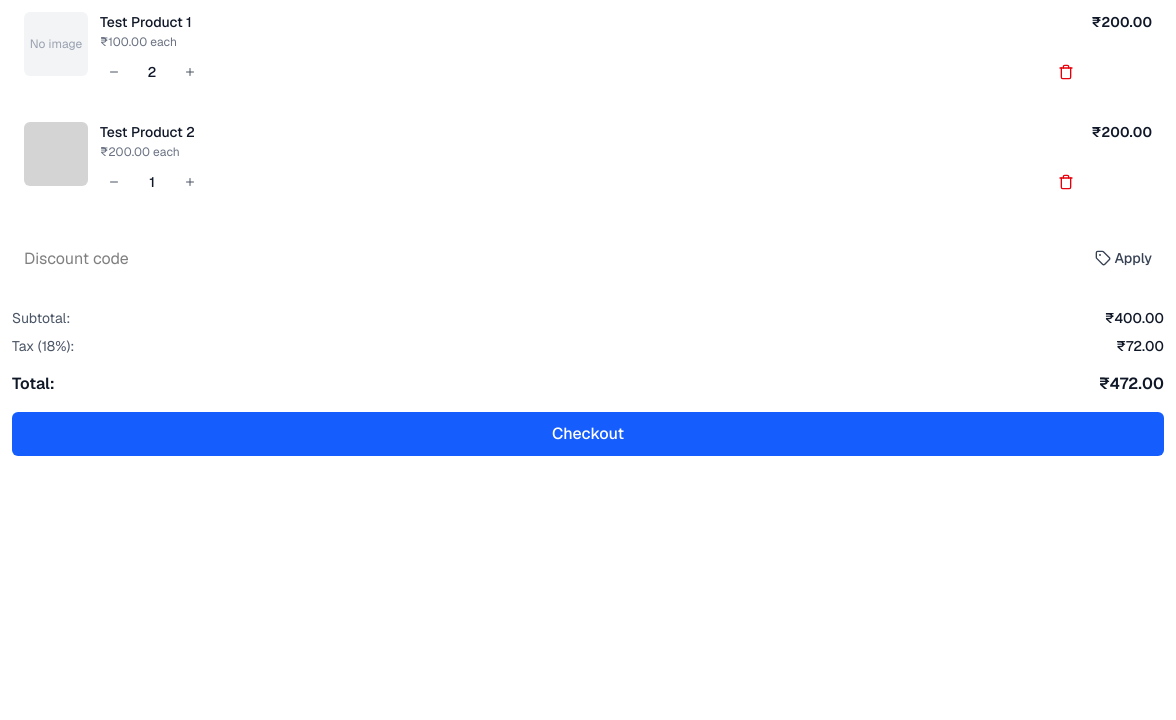
ShoppingCart › Discount Code Application › should update totals when discount is applied
Type "SAVE10" into the field with placeholder "Discount code".
click(543, 258); type("SAVE10")  # box [12,240,1074,276]
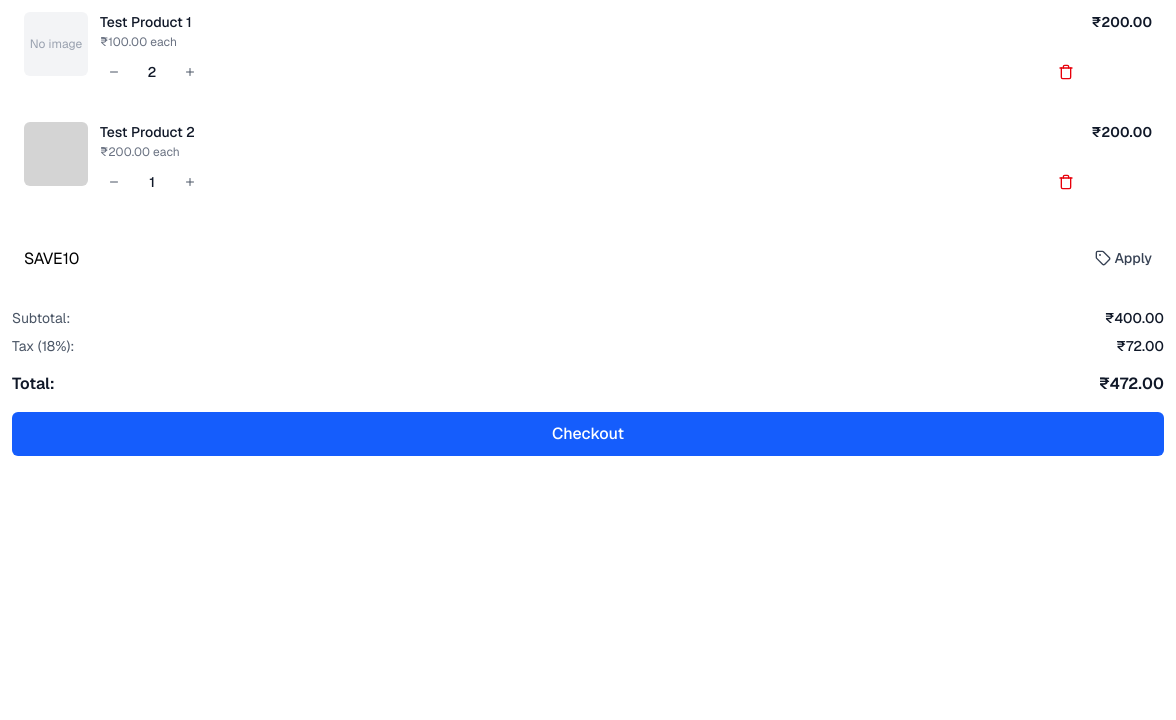
Click the button with aria-label "Apply discount code".
click(1123, 258)  # box [1082,240,1164,276]
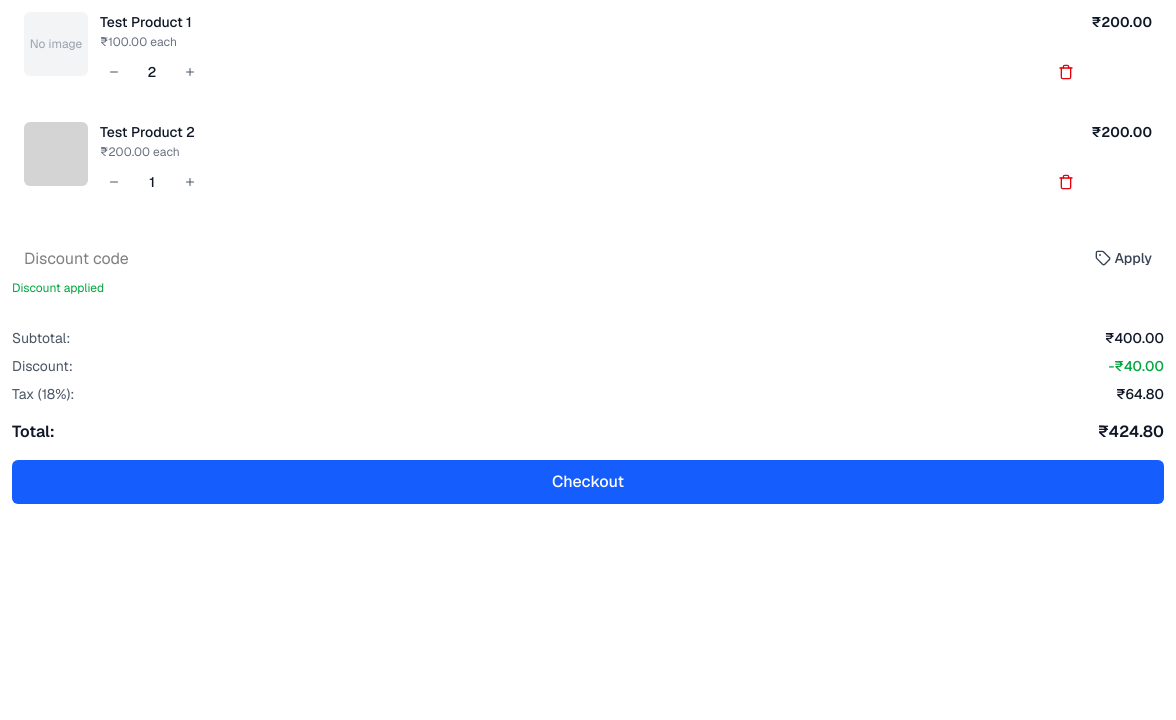
Expected: the text "-₹40.00" is shown, [1108,356,1164,376]
Expected: the text "₹64.80" is shown, [1116,384,1164,404]
Expected: the text "₹424.80" is shown, [1098,420,1164,444]
